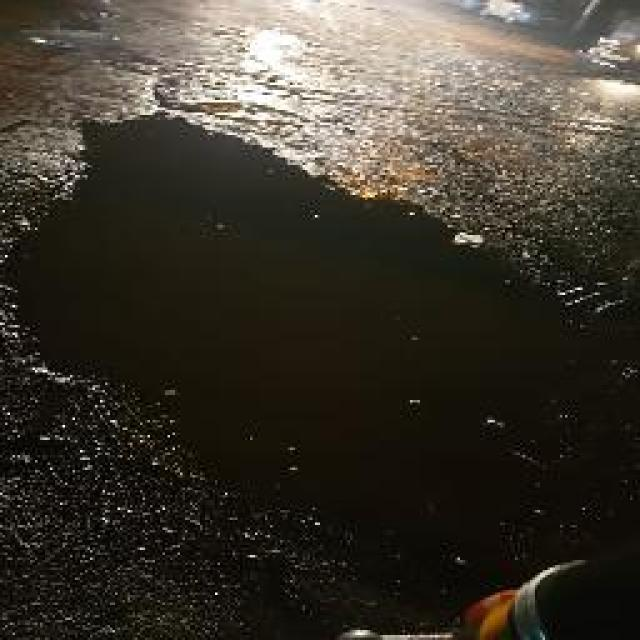stagnation: (8, 97, 587, 549)
